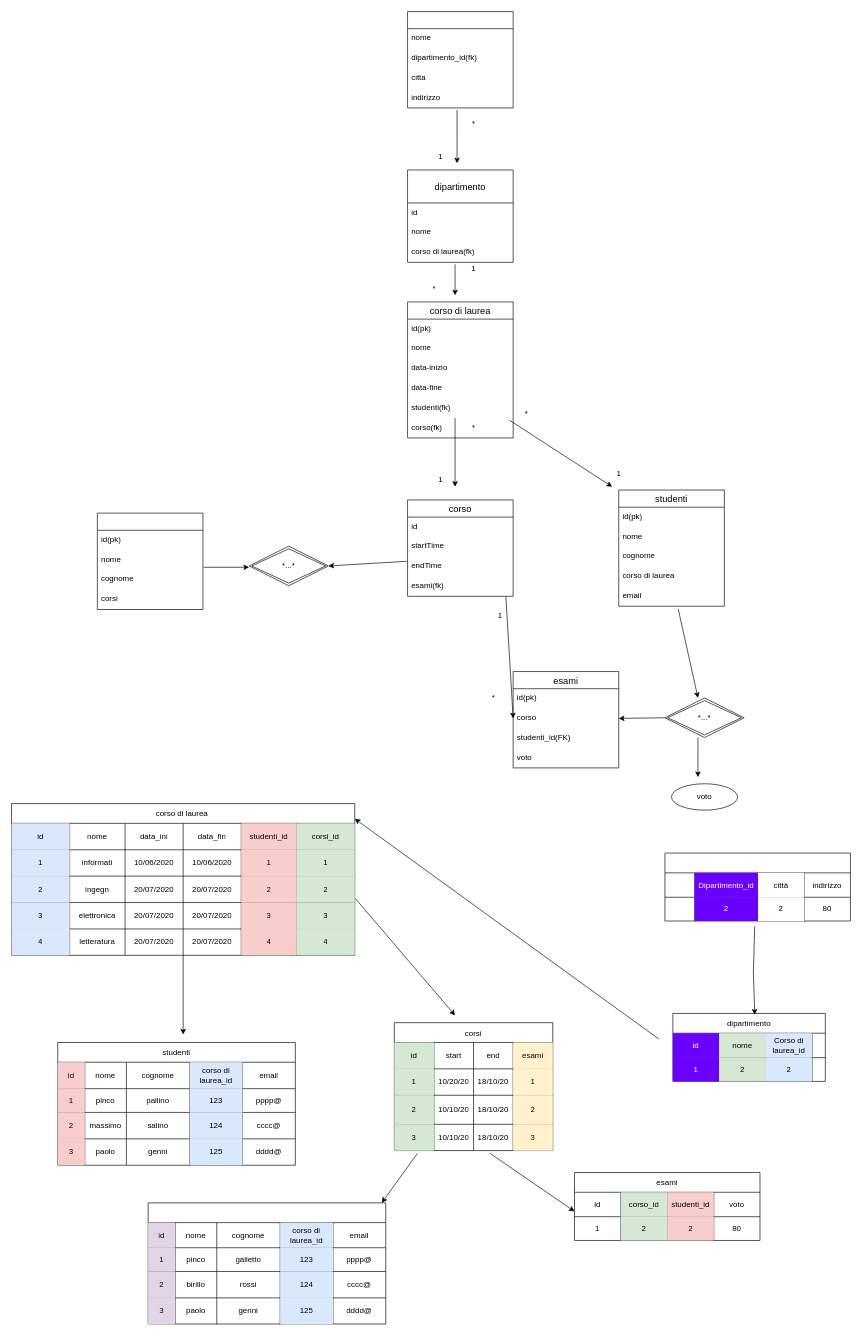
This 862x1336 diagram has some shape labels left out. Here are the shapes that lost their labels. From the top down, the box of each, then its label:
(407, 11, 513, 108): universita
(97, 512, 203, 610): insegnante
(664, 852, 850, 921): università
(148, 1202, 386, 1324): insegnanti
